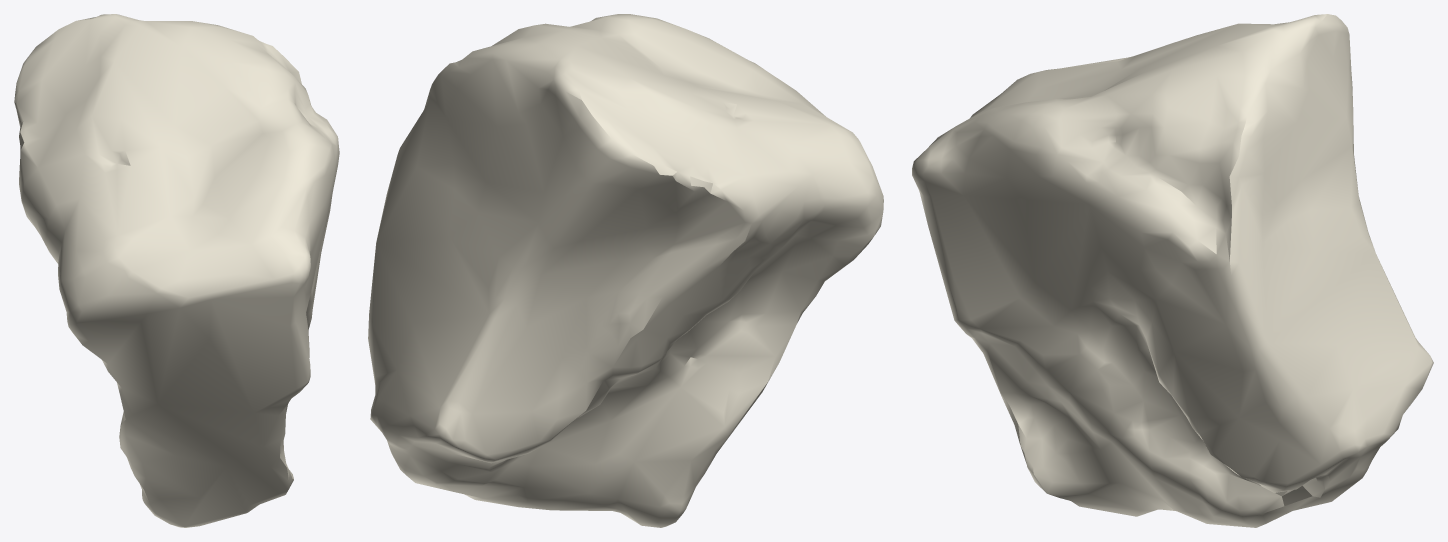
Rendered from fma24523.glb.
The picture shows the model from 3 angles, left to right: view 1: azimuth 30°, elevation 25°; view 2: azimuth 150°, elevation 25°; view 3: azimuth 270°, elevation 25°; orthographic projection. The views are drawn at different scales.
Visible parts, largest first — view 1: FMA24523; view 2: FMA24523; view 3: FMA24523.
Part boxes in pixels (x1,y1,x2,y2): FMA24523: (14,14,339,527); FMA24523: (368,14,883,527); FMA24523: (912,14,1433,527).
Size of the model in its own units: 0.0189 by 0.0234 by 0.0222.
